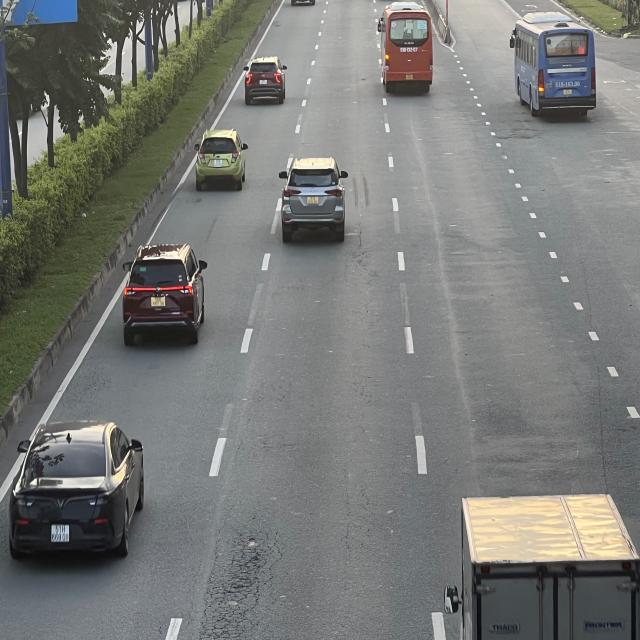car: (10, 422, 146, 562), (120, 244, 207, 346), (280, 161, 351, 245), (193, 129, 248, 192), (244, 57, 289, 106)
coach: (512, 14, 600, 119), (379, 6, 435, 92)
truck: (450, 495, 640, 640)
